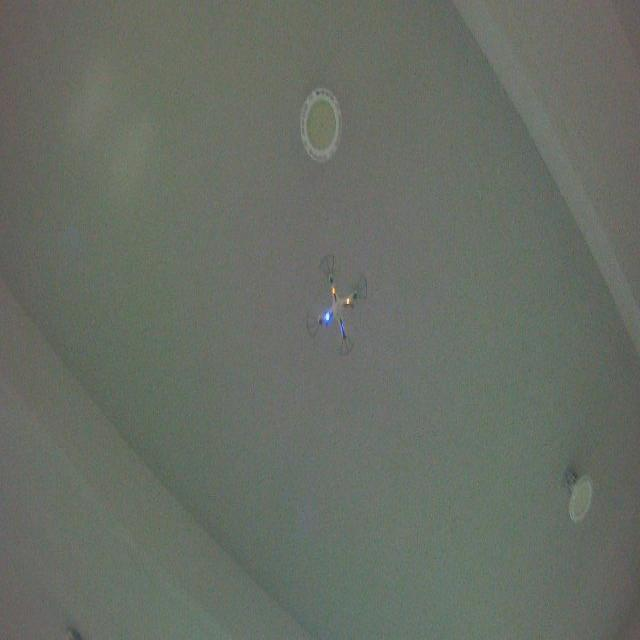drone: (303, 251, 371, 359)
